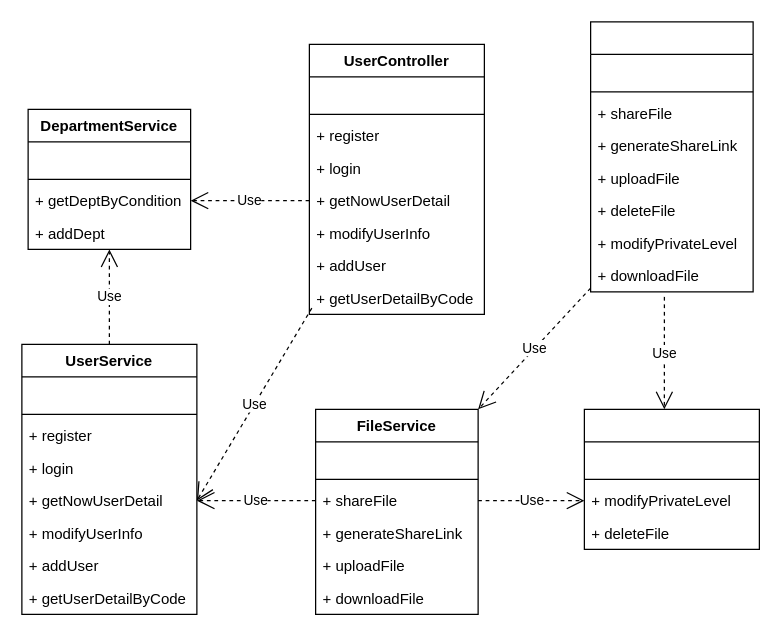
This 781x640 diagram has some shape labels left out. The shapes that lost their labels are listed below. From the top down, each one's box as (x1, y1, x2, y2) in pixels, then its label:
(589, 21, 753, 292): FileController
(583, 408, 759, 549): UploadInfoService
